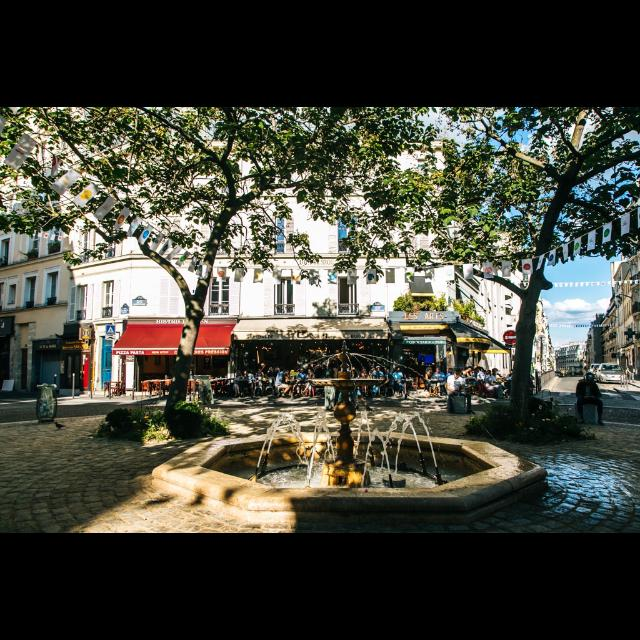head: (454, 369, 462, 379), (586, 375, 594, 385), (352, 370, 358, 378), (256, 369, 262, 375), (270, 367, 276, 373), (308, 369, 314, 375), (436, 368, 442, 374), (486, 371, 492, 377), (236, 372, 242, 376), (281, 368, 287, 372), (301, 369, 305, 375), (376, 367, 380, 373), (396, 367, 400, 373), (450, 369, 454, 375), (477, 368, 483, 372), (244, 372, 248, 376), (295, 368, 299, 372), (428, 368, 432, 372), (429, 364, 433, 368), (630, 364, 634, 368)
person: (574, 372, 606, 428), (447, 368, 478, 416), (346, 368, 374, 412), (484, 370, 508, 400), (391, 366, 409, 399), (429, 368, 448, 398), (232, 370, 250, 400), (276, 368, 292, 400), (292, 368, 308, 400), (444, 368, 460, 398), (371, 366, 385, 400), (471, 368, 487, 397), (242, 371, 256, 402), (252, 368, 266, 398), (266, 366, 280, 396), (302, 368, 316, 398), (424, 369, 438, 398), (289, 366, 301, 396), (627, 363, 637, 385), (426, 364, 434, 384)
